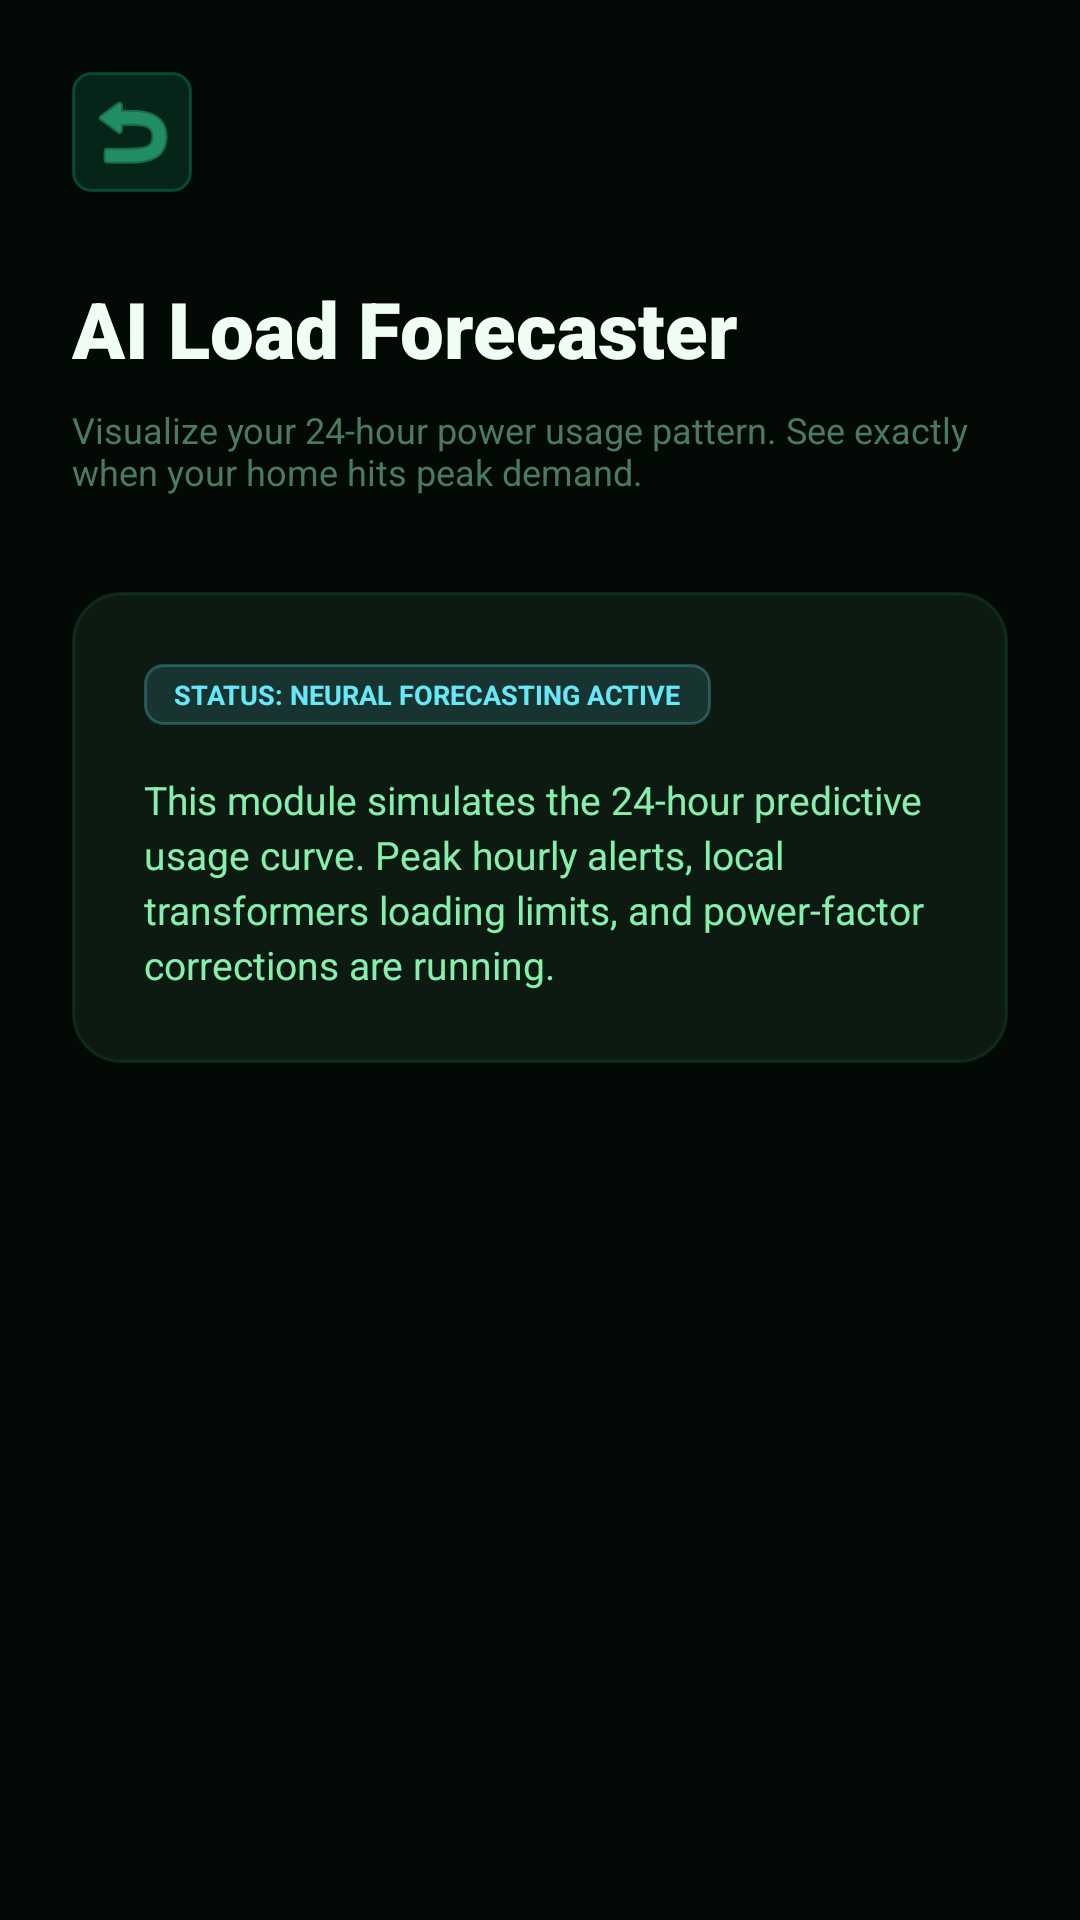

Icon click points for this 1080 x 1920 phone screenshot, format [x,y]:
revert: [132,132]
